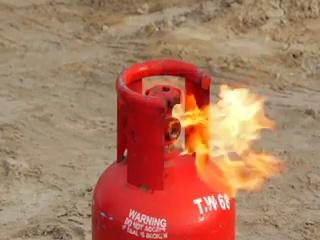Fire: (132, 30, 286, 186)
